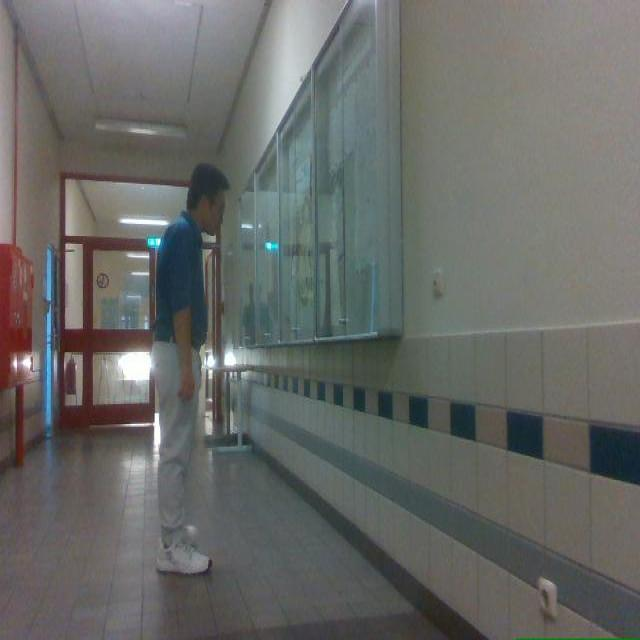humans: (152, 164, 229, 572)
